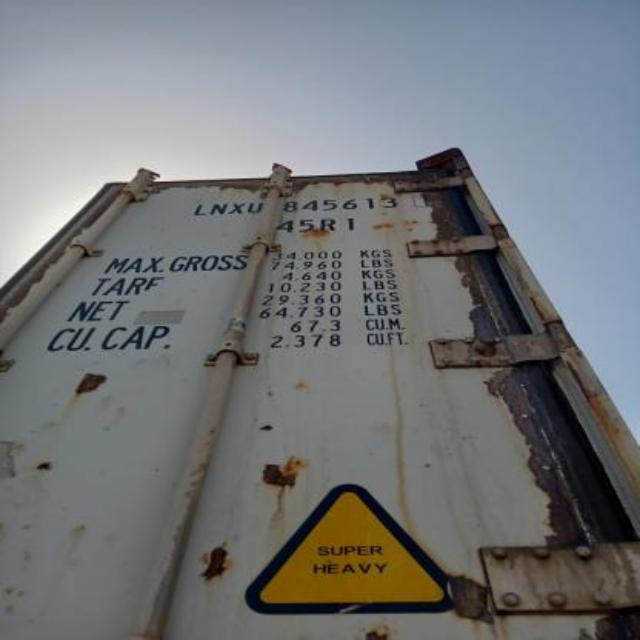1: (360, 188, 376, 215), (408, 190, 429, 206)
3: (376, 189, 399, 215)
4: (303, 194, 319, 216)
5: (320, 190, 338, 214)
6: (338, 190, 359, 213)
8: (280, 196, 296, 214)
L: (192, 196, 205, 217)
N: (208, 196, 228, 218)
U: (248, 194, 264, 218)
X: (230, 194, 246, 218)
